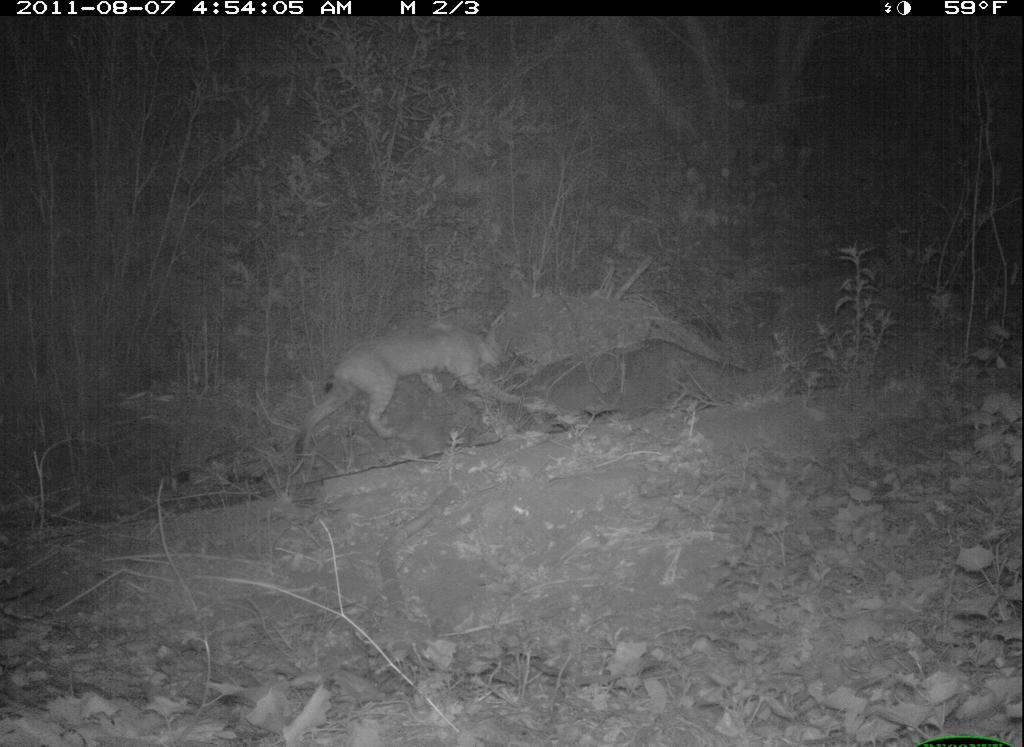bobcat: (335, 312, 528, 472)
